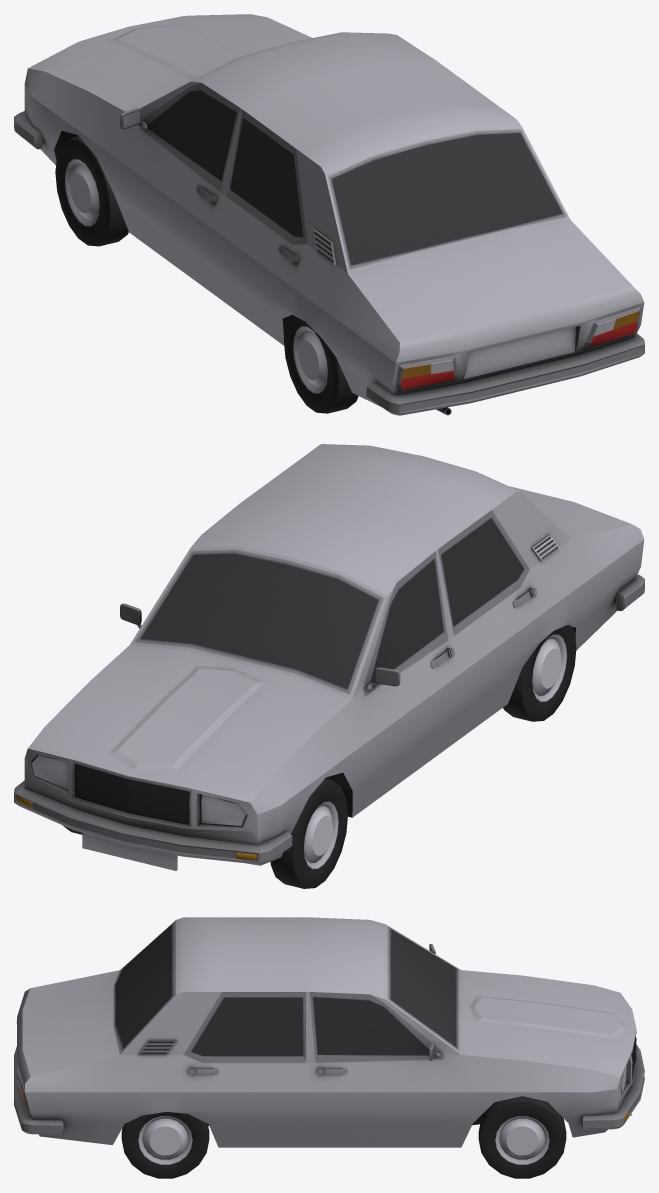
The model's file is car1.fbx.
3 renders of one model, top to bottom at view 1: azimuth 30°, elevation 25°; view 2: azimuth 150°, elevation 25°; view 3: azimuth 270°, elevation 25°, orthographic. The views are drawn at different scales.
Parts seen in each view (by area): view 1: Body, FLWheel, RLWheel; view 2: Body, FLWheel, RLWheel; view 3: Body, FRWheel, RRWheel.
Part boxes in pixels (bbox=[...]): Body: bbox=[14, 14, 644, 415]; FLWheel: bbox=[55, 136, 128, 246]; RLWheel: bbox=[283, 315, 358, 413]; Body: bbox=[14, 444, 644, 870]; FLWheel: bbox=[270, 778, 347, 888]; RLWheel: bbox=[503, 625, 576, 721]; Body: bbox=[14, 917, 644, 1147]; FRWheel: bbox=[478, 1096, 566, 1178]; RRWheel: bbox=[121, 1111, 209, 1178].
Size of the model in its own units: 173 by 145 by 433.
Materials: 2 (2 with a texture image).
